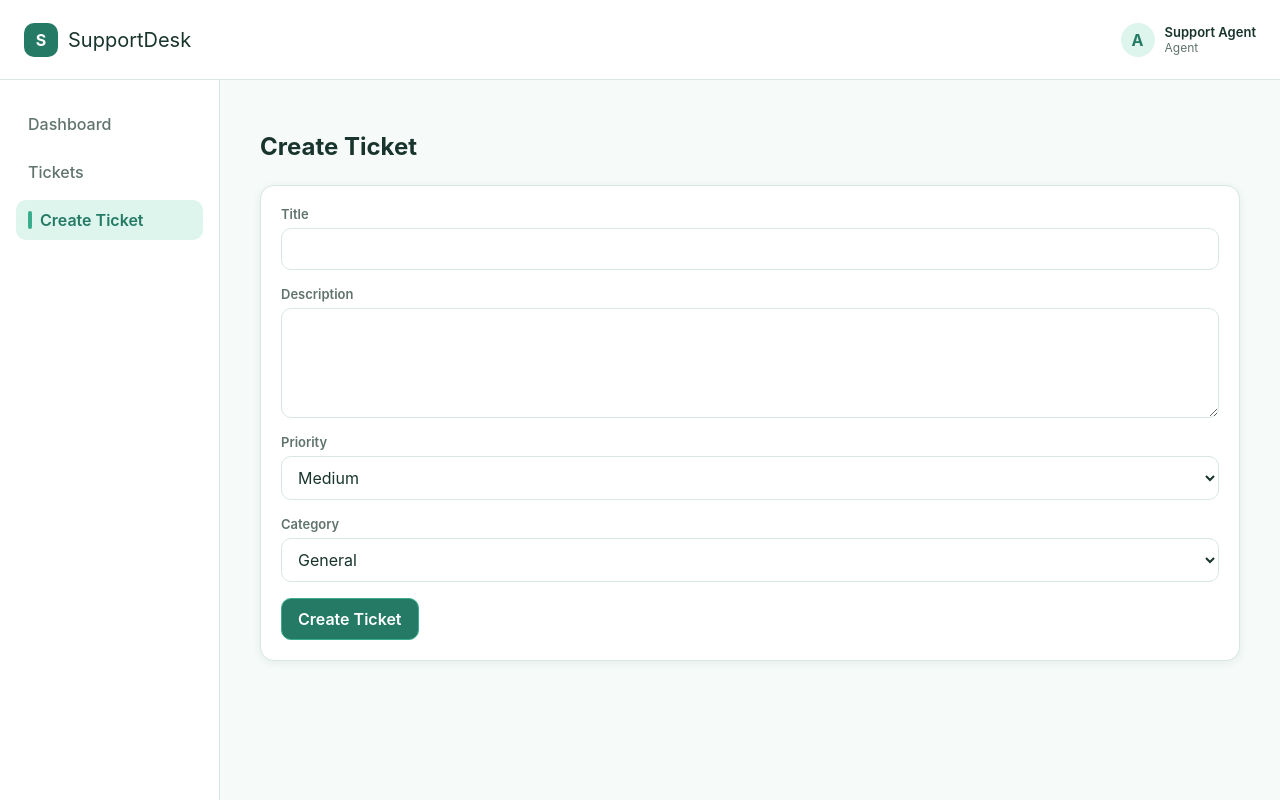
Test: App › shows an error and keeps the form when ticket creation fails
The image size is (1280, 800).
Type "Important issue" into the field labelled "Title". click: coordinates (750, 249)
box: [281,228,1219,270]
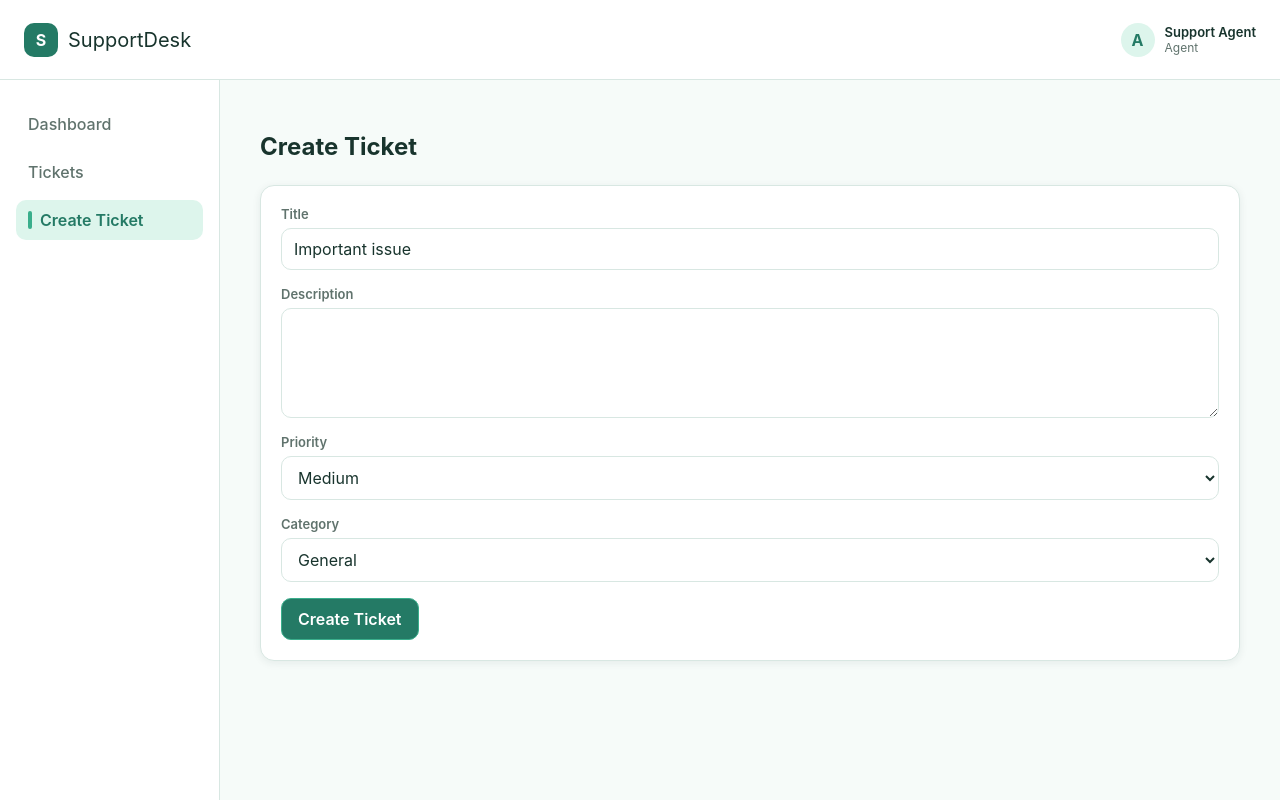
Type "Please investigate" into the text box labelled "Description". click: coordinates (750, 363)
box: [281,308,1219,418]
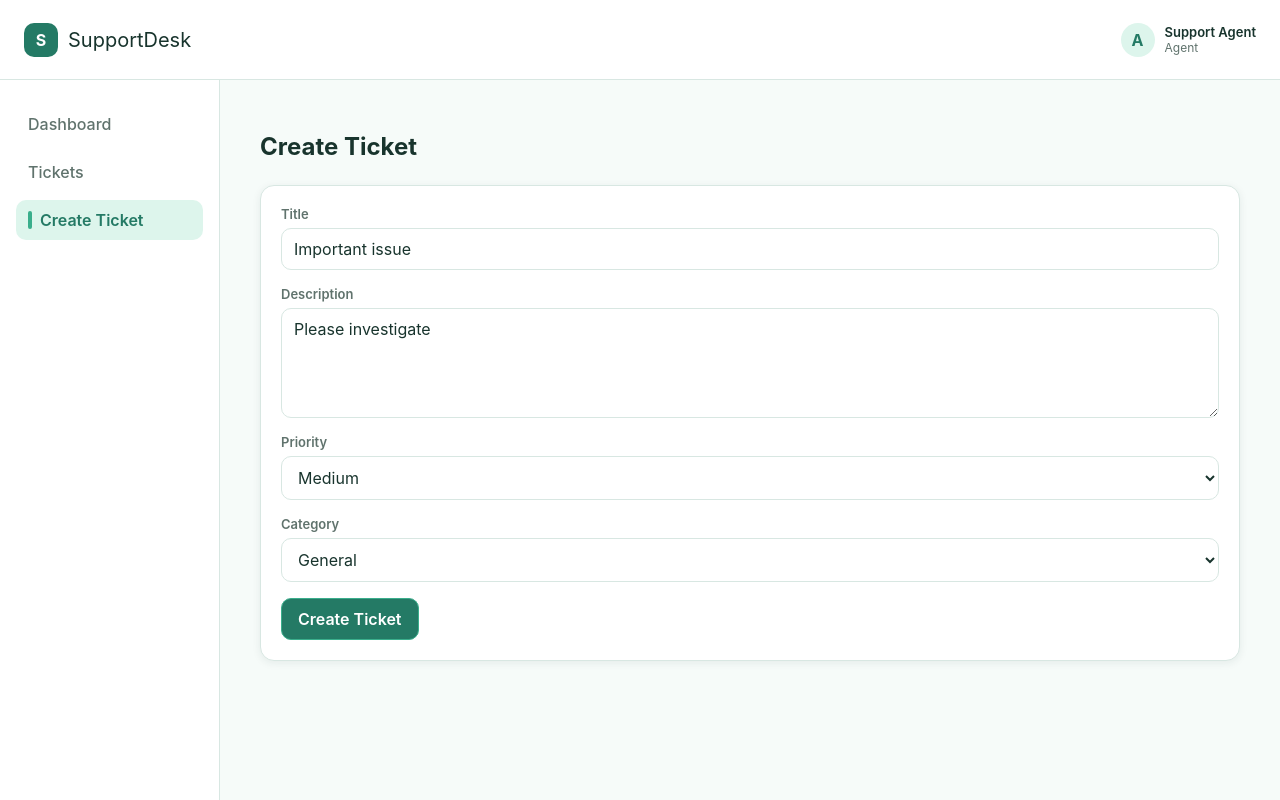
Click the button "Create Ticket". click: coordinates (350, 619)
box: [281,598,418,640]
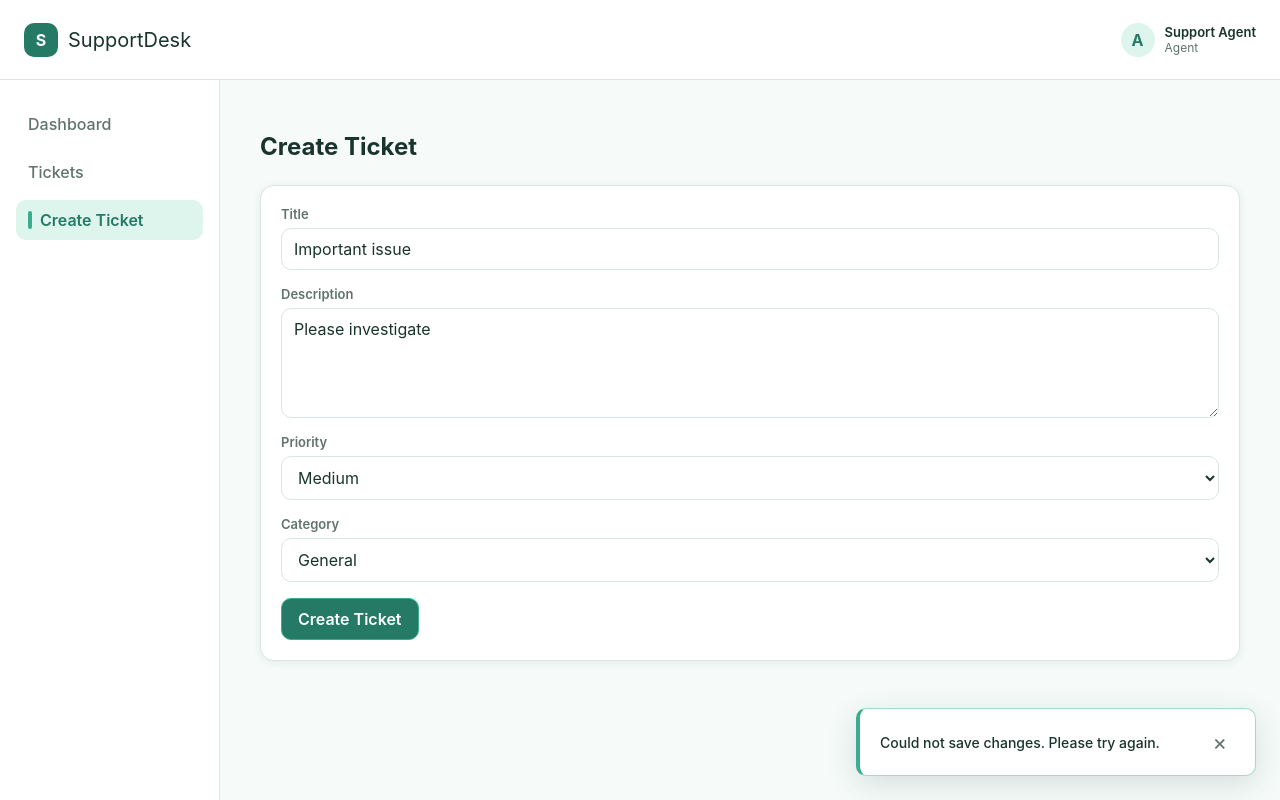
Expected: the heading "Create Ticket" is shown, [260,132,417,161]
Expected: the text "Could not save changes. Please try again." is shown, [880,732,1188,752]
